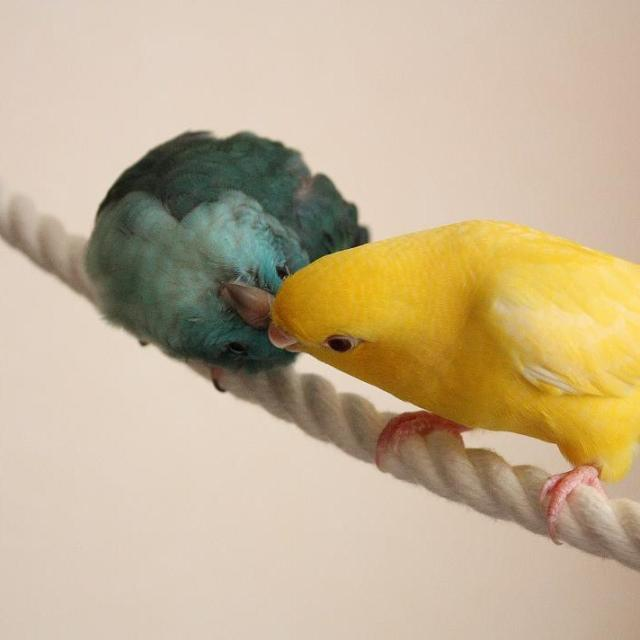bird: (274, 215, 640, 514), (94, 121, 382, 399)
